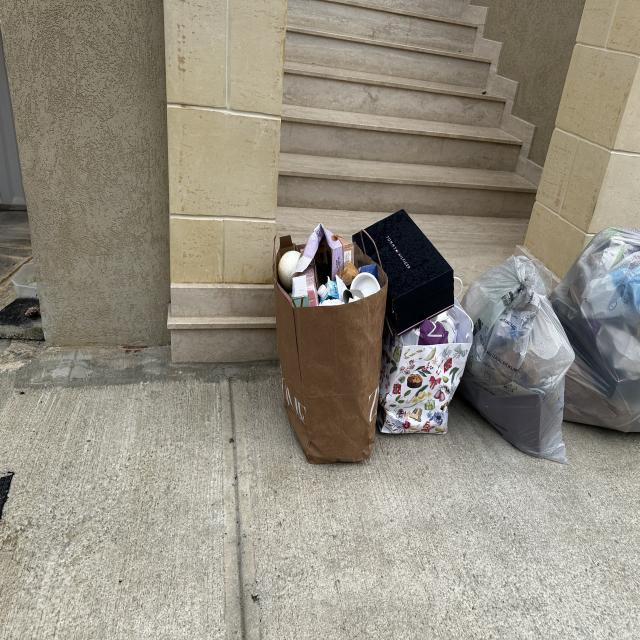Others Waste: (272, 209, 473, 464)
Recyclable Material -Grey Bags-: (456, 226, 640, 465)
